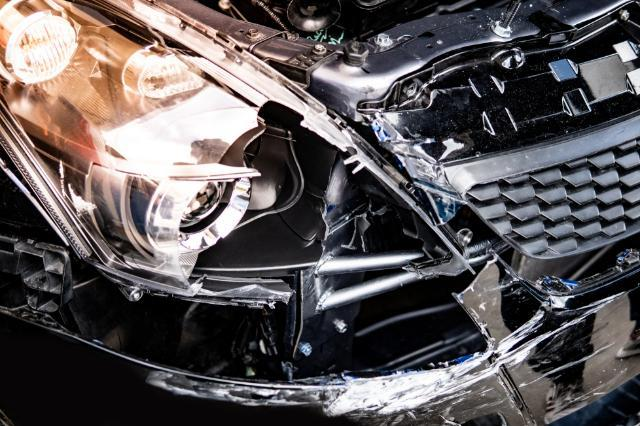Bonnet: (127, 0, 640, 147)
Bumper: (0, 202, 640, 426)
Light: (0, 0, 473, 297)
